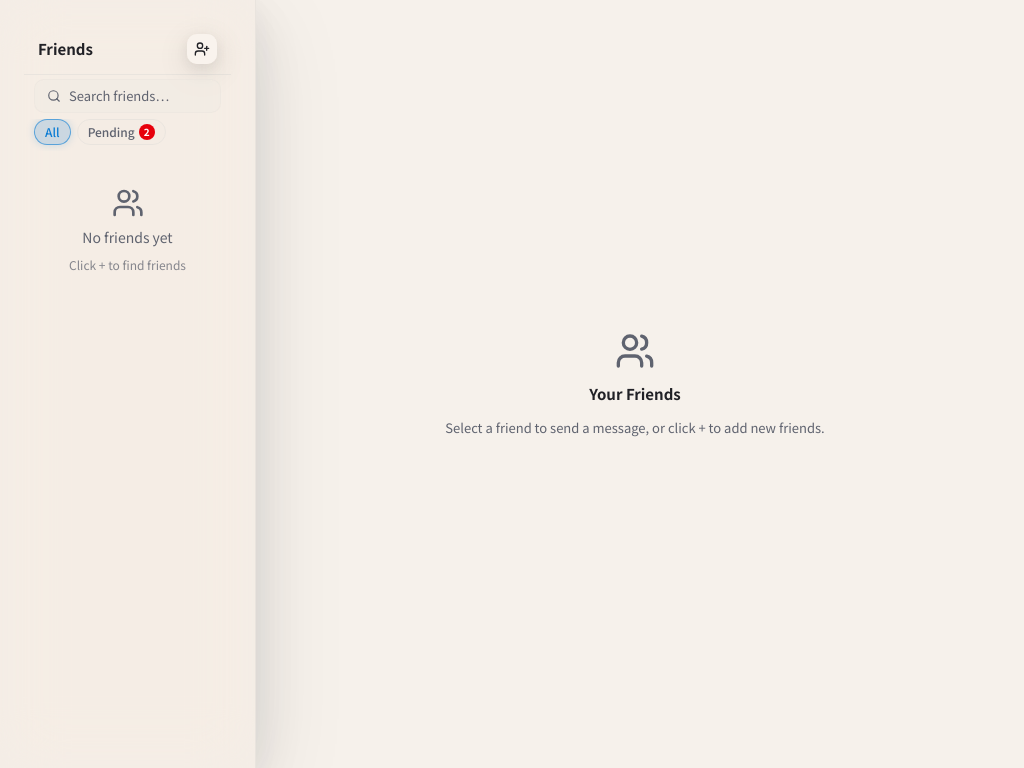
Test: TC-F-06: Pending request card UI › shows accept and reject buttons in pending requests section
The width and height of the screenshot is (1024, 768).
Note: Switch to the Pending tab — pending requests render under the filter chip list
Click the button "Pending 2".
click(121, 132)  # box [77,119,166,145]
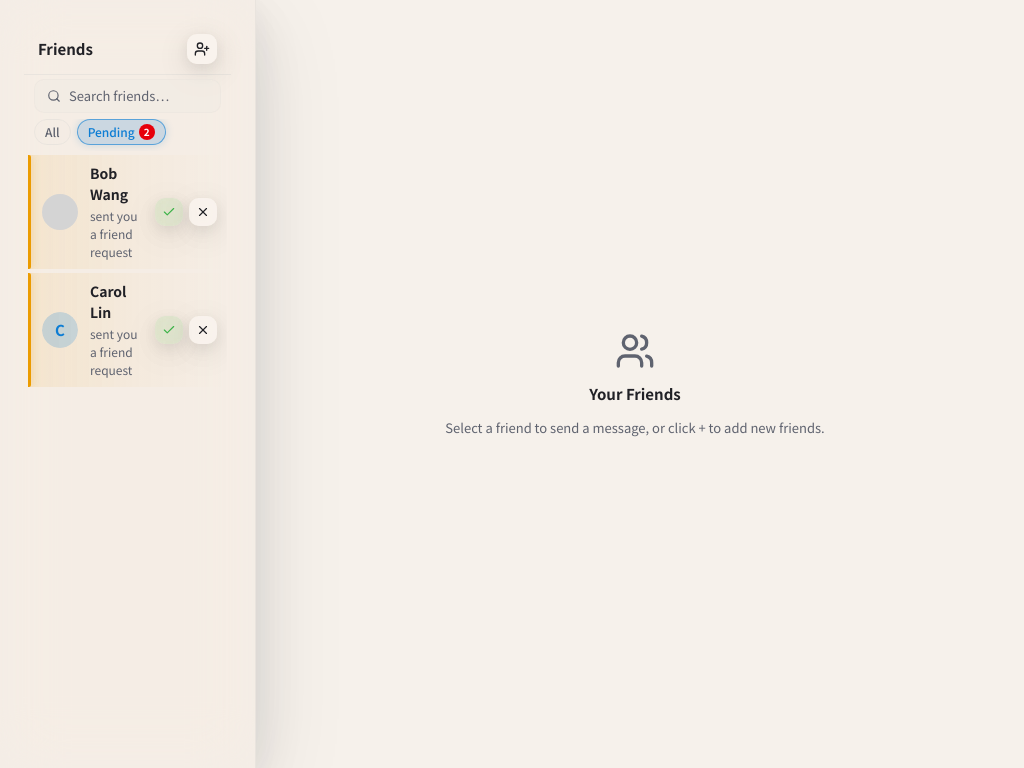
Check: the number of buttons named "accept" is 2, box [155,198,183,226]; [155,316,183,344]
Check: the number of buttons named "reject" is 2, box [189,198,217,226]; [189,316,217,344]
